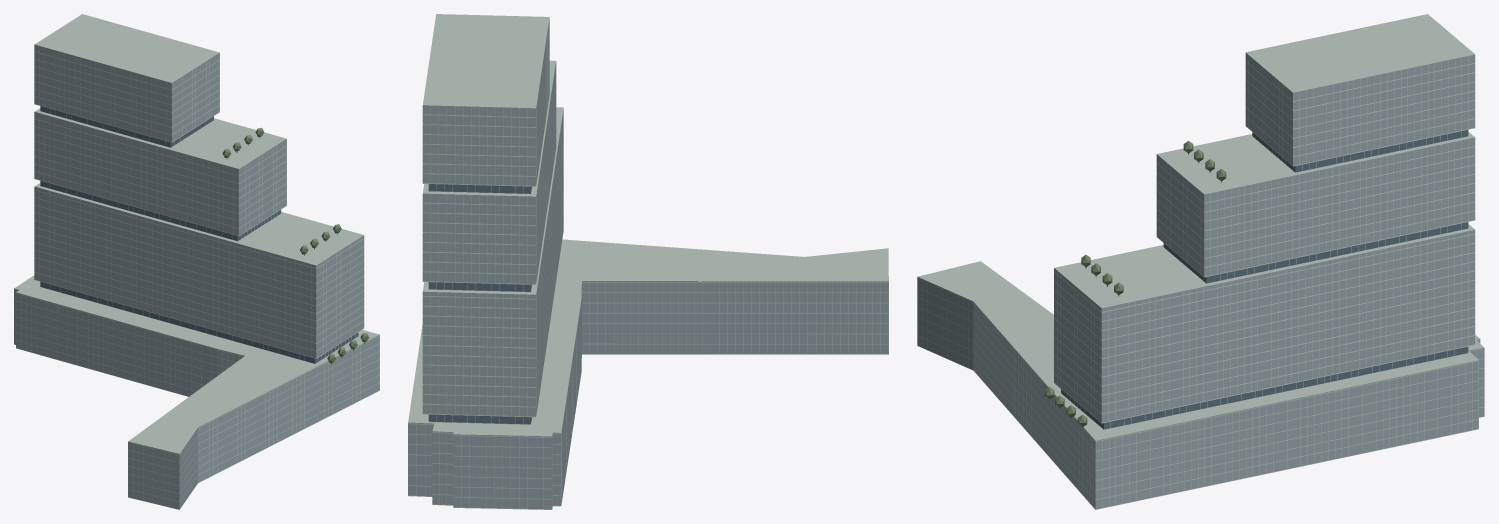
The model's file is tribunal-de-paris-near.glb.
The picture shows the model from 3 angles, left to right: view 1: azimuth 30°, elevation 25°; view 2: azimuth 150°, elevation 25°; view 3: azimuth 270°, elevation 25°; orthographic projection. The views are drawn at different scales.
Parts seen in each view (by area): view 1: tribunal-de-paris-0-glass, tribunal-de-paris-0-frame, tribunal-de-paris-0-roof, tribunal-de-paris-0-shade, tribunal-de-paris-0-leaf; view 2: tribunal-de-paris-0-glass, tribunal-de-paris-0-roof, tribunal-de-paris-0-frame, tribunal-de-paris-0-shade; view 3: tribunal-de-paris-0-glass, tribunal-de-paris-0-frame, tribunal-de-paris-0-roof, tribunal-de-paris-0-shade, tribunal-de-paris-0-leaf.
Part boxes in pixels (x1,y1,x2,y2): tribunal-de-paris-0-glass: (14,44,379,509); tribunal-de-paris-0-frame: (14,46,379,509); tribunal-de-paris-0-roof: (14,14,379,453); tribunal-de-paris-0-shade: (40,106,358,363); tribunal-de-paris-0-leaf: (222,127,369,362); tribunal-de-paris-0-glass: (408,18,888,509); tribunal-de-paris-0-roof: (408,14,888,436); tribunal-de-paris-0-frame: (408,27,888,509); tribunal-de-paris-0-shade: (428,184,531,424); tribunal-de-paris-0-glass: (917,53,1484,509); tribunal-de-paris-0-frame: (917,55,1484,509); tribunal-de-paris-0-roof: (918,14,1483,440); tribunal-de-paris-0-shade: (1061,130,1468,429); tribunal-de-paris-0-leaf: (1044,141,1226,427).
Bounding box in the file's own units: 167 × 160 × 223.
